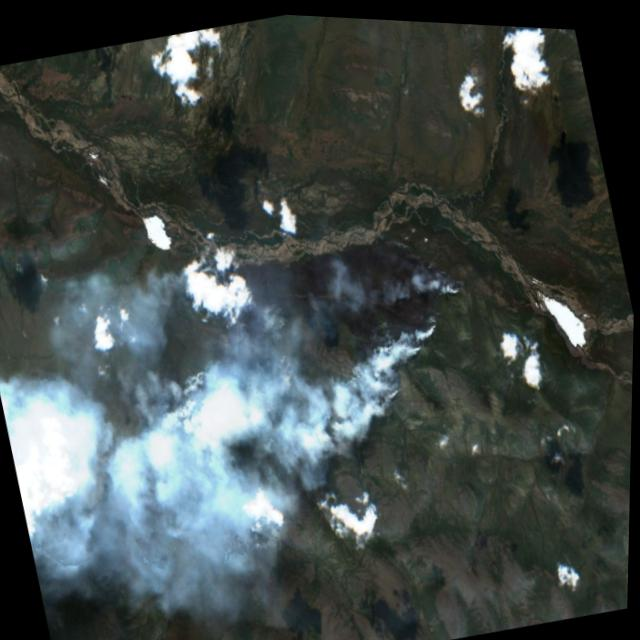fire: (364, 298, 454, 408), (414, 250, 475, 302)
